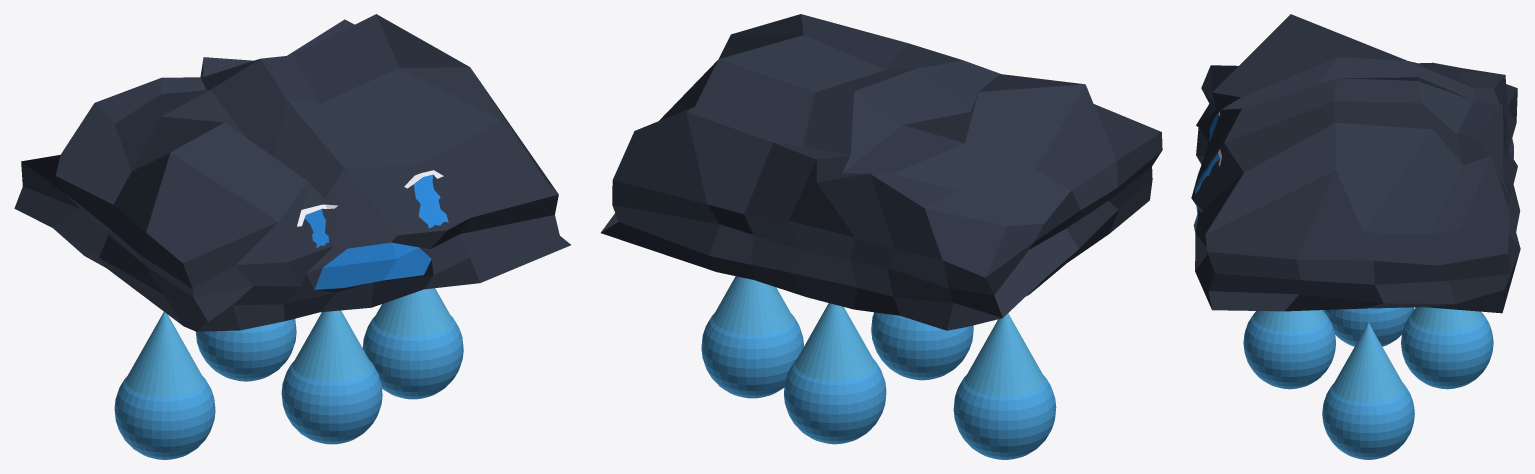
The model's file is heavy-rain.gltf.
3 views of the same model, side by side, from view 1: azimuth 30°, elevation 25°; view 2: azimuth 150°, elevation 25°; view 3: azimuth 270°, elevation 25° (orthographic). The views are drawn at different scales.
Visible parts, largest first — view 1: Cube.001, Cone, Cone.003, Cone.001, Cone.002; view 2: Cube.001, Cone, Cone.002, Cone.001, Cone.003; view 3: Cube.001, Cone.001, Cone.002, Cone.003, Cone.
Boxes of the visible parts, x1,y1,x2,y2 form: Cube.001: [14, 14, 570, 331]; Cone: [114, 312, 215, 459]; Cone.003: [281, 310, 382, 444]; Cone.001: [362, 288, 463, 399]; Cone.002: [196, 319, 296, 381]; Cube.001: [601, 14, 1162, 330]; Cone: [953, 313, 1056, 459]; Cone.002: [784, 303, 886, 444]; Cone.001: [701, 276, 803, 398]; Cone.003: [871, 312, 973, 380]; Cube.001: [1191, 14, 1520, 313]; Cone.001: [1322, 322, 1414, 459]; Cone.002: [1401, 307, 1493, 389]; Cone.003: [1243, 310, 1335, 389]; Cone: [1323, 307, 1414, 346].
Bounding box in the file's own units: 1.65 × 1.37 × 1.25.
